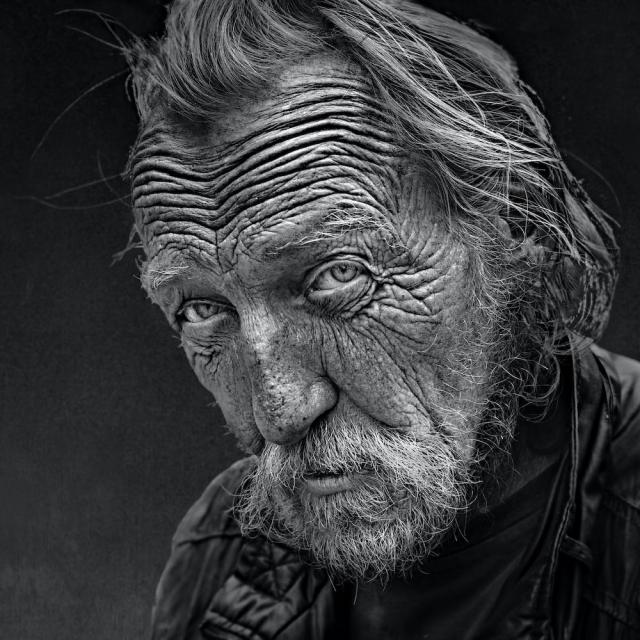Wrinkles: (134, 77, 408, 270), (368, 230, 457, 435), (190, 346, 229, 373)
